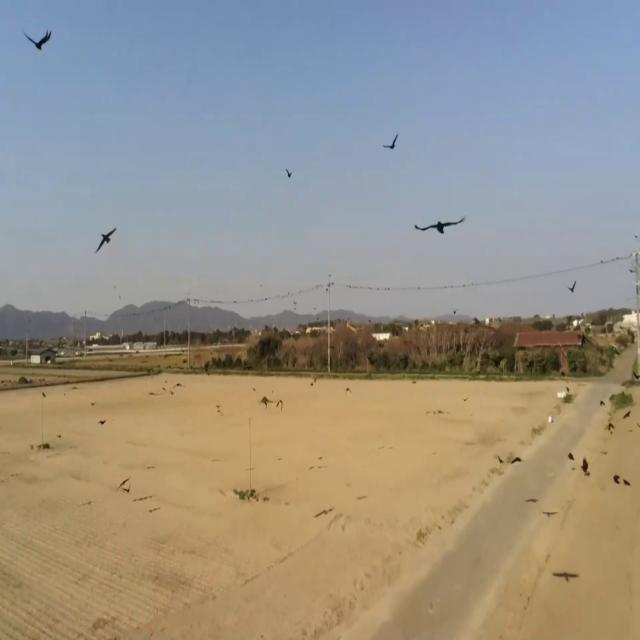bird: (416, 212, 463, 245), (24, 23, 52, 60), (96, 220, 116, 259), (383, 130, 399, 157), (566, 275, 576, 299), (567, 444, 575, 466), (98, 414, 106, 432), (286, 163, 292, 182)
